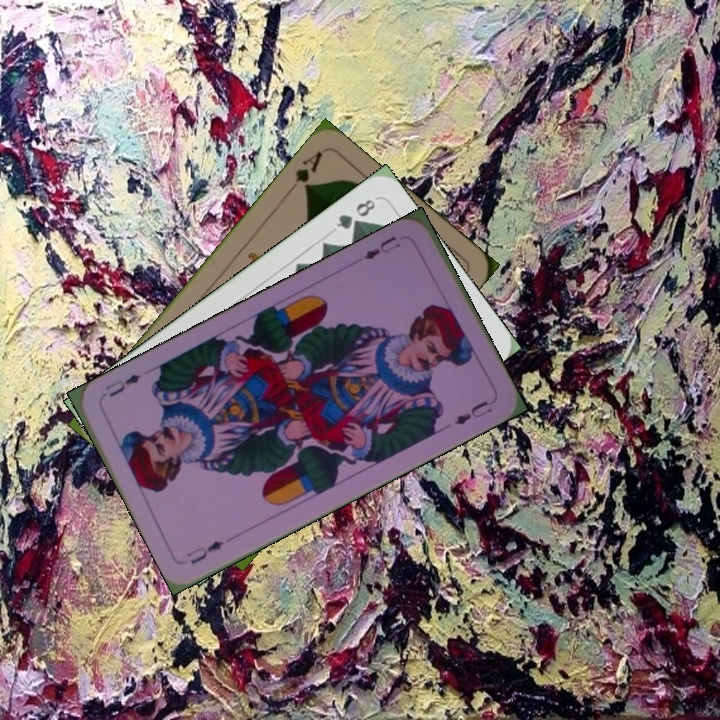EU: (182, 536, 227, 567), (360, 232, 403, 262)
G8: (332, 194, 378, 233)
GA: (282, 146, 325, 195)
